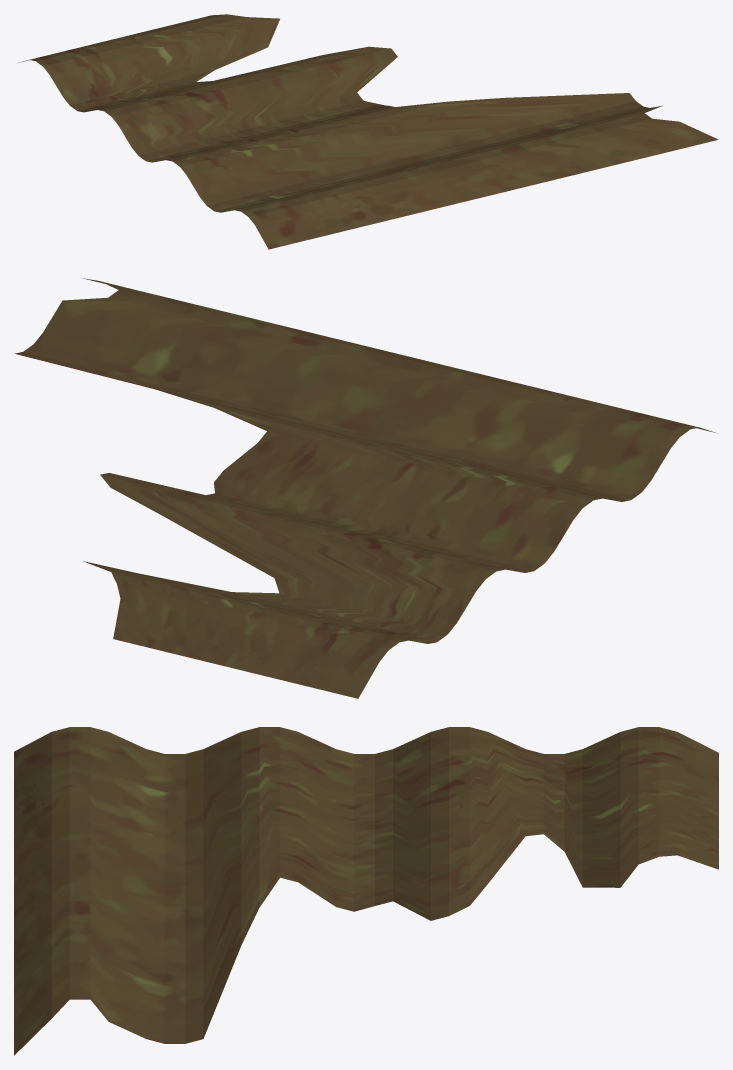
Rendered from metal scrap5.fbx.
3 views of the same model, one above another, from view 1: azimuth 30°, elevation 25°; view 2: azimuth 150°, elevation 25°; view 3: azimuth 270°, elevation 25° (orthographic). The views are drawn at different scales.
Parts seen in each view (by area): view 1: Plane.018; view 2: Plane.018; view 3: Plane.018.
Part boxes in pixels (left/top/right/bottom): Plane.018: left=17, top=14, right=718, bottom=249; Plane.018: left=15, top=278, right=715, bottom=698; Plane.018: left=14, top=727, right=718, bottom=1055.
Size of the model in its own units: 183 by 7.53 by 180.
